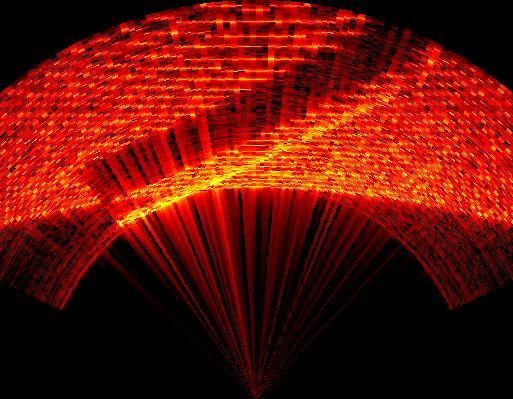pipe: (76, 24, 435, 229)
